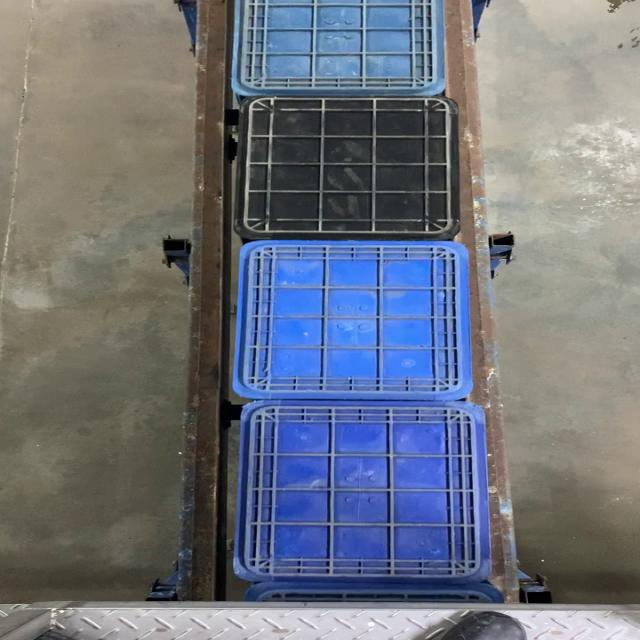Box: (235, 400, 490, 582), (232, 242, 471, 400), (228, 94, 464, 242)
